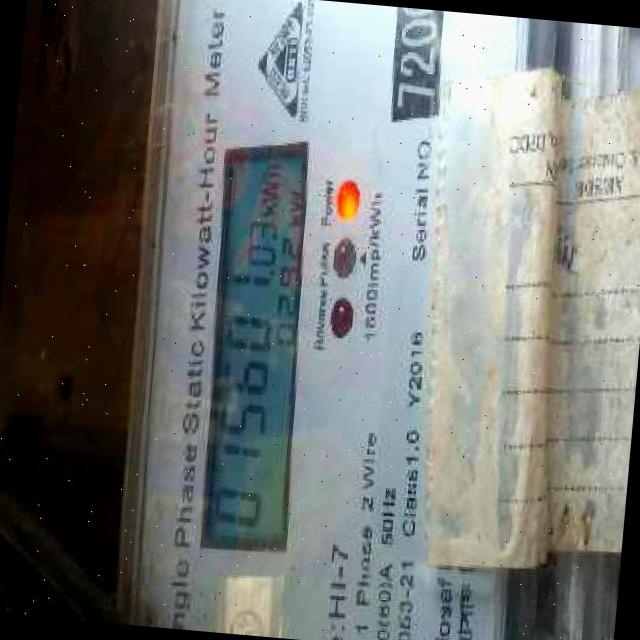LCD: (189, 118, 324, 571)
